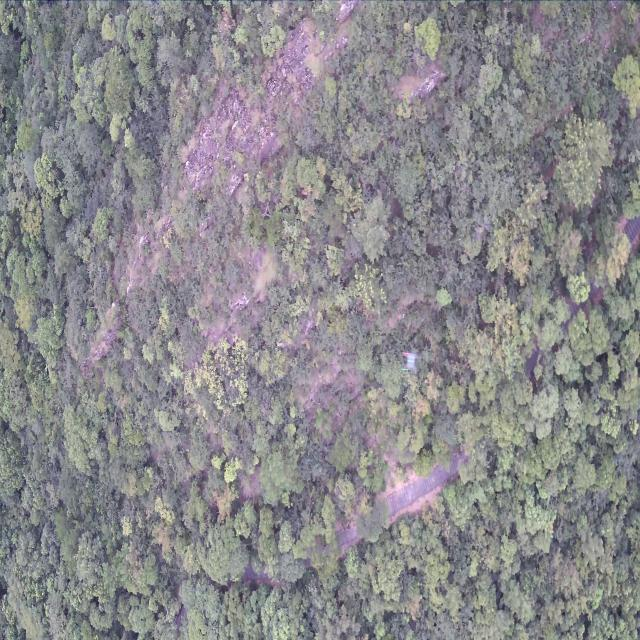UAV: (400, 349, 422, 378)
